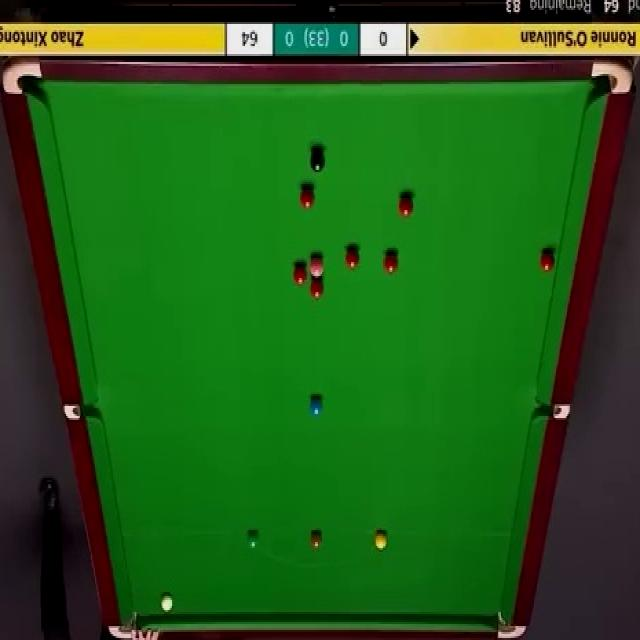black-ball: (310, 150, 326, 172)
blue-ball: (310, 393, 322, 416)
brown-ball: (309, 531, 323, 549)
green-ball: (245, 530, 260, 552)
pink-ball: (309, 257, 326, 276)
red-ball: (383, 250, 400, 275), (398, 192, 413, 217), (344, 247, 360, 269), (299, 187, 315, 209), (541, 250, 555, 273), (294, 264, 308, 286), (310, 279, 324, 299)
white-ball: (161, 592, 172, 610)
yellow-ball: (373, 529, 389, 553)
